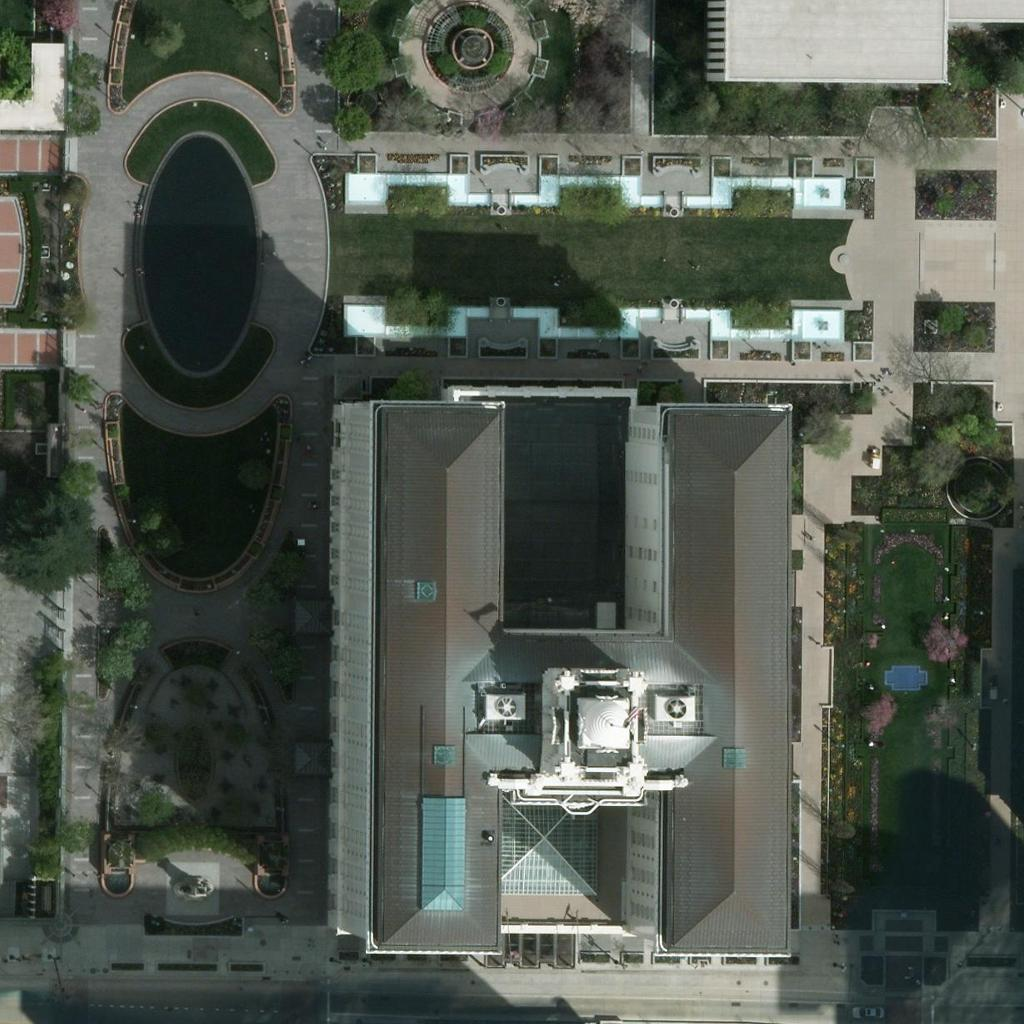car: (853, 994, 887, 1024)
